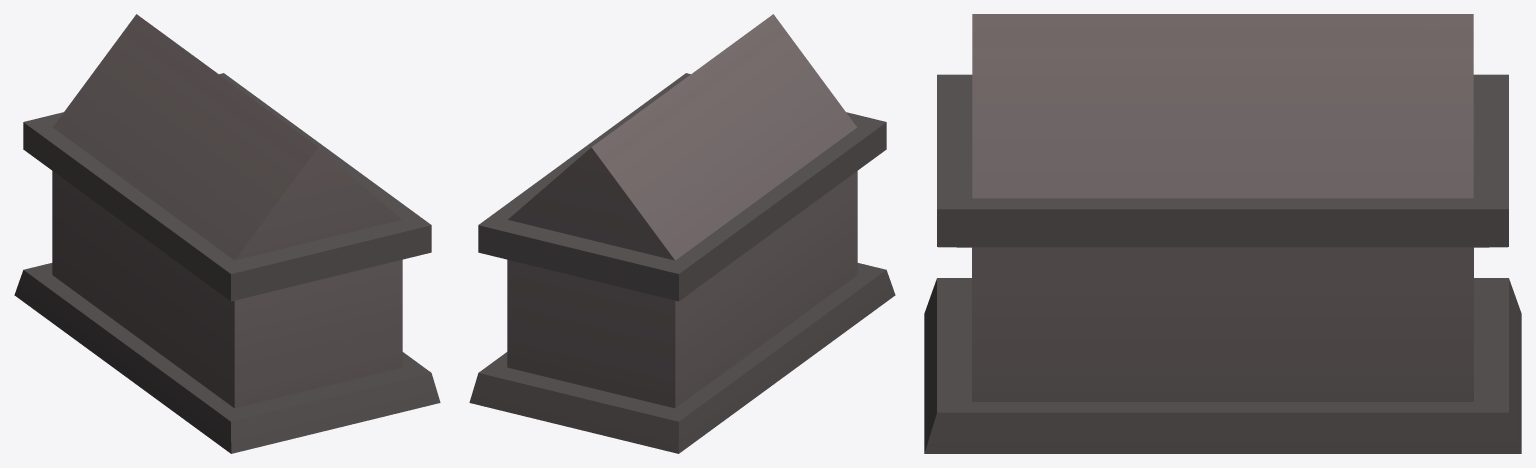
The model's file is Tomb.obj.
3 renders of one model, left to right at view 1: azimuth 30°, elevation 25°; view 2: azimuth 150°, elevation 25°; view 3: azimuth 270°, elevation 25°, orthographic. The views are drawn at different scales.
Parts seen in each view (by area): view 1: {mesh}Tomb_Cube.039; view 2: {mesh}Tomb_Cube.039; view 3: {mesh}Tomb_Cube.039.
Part boxes in pixels (box(x1,y1,x2,y2)): {mesh}Tomb_Cube.039: box(14, 14, 440, 453); {mesh}Tomb_Cube.039: box(469, 14, 895, 453); {mesh}Tomb_Cube.039: box(924, 14, 1521, 453).
Bounding box in the file's own units: 50.26 × 61.59 × 90.15.
Materials: 1 (1 with a texture image).
